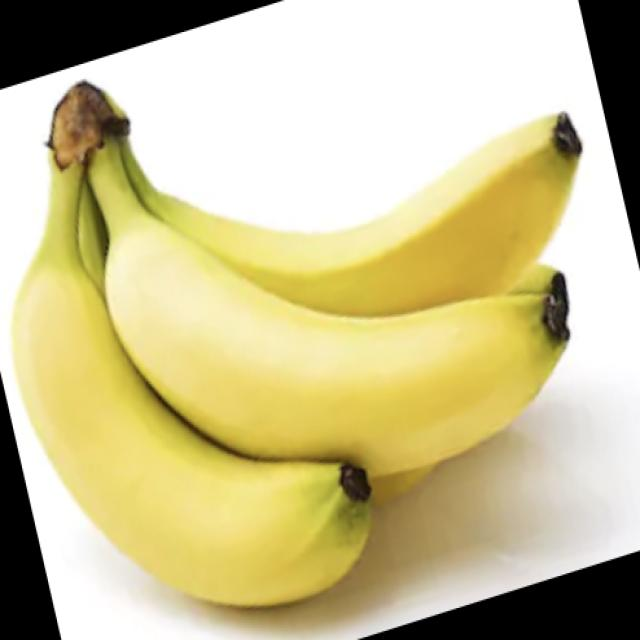god quality banana: (12, 82, 583, 607)
